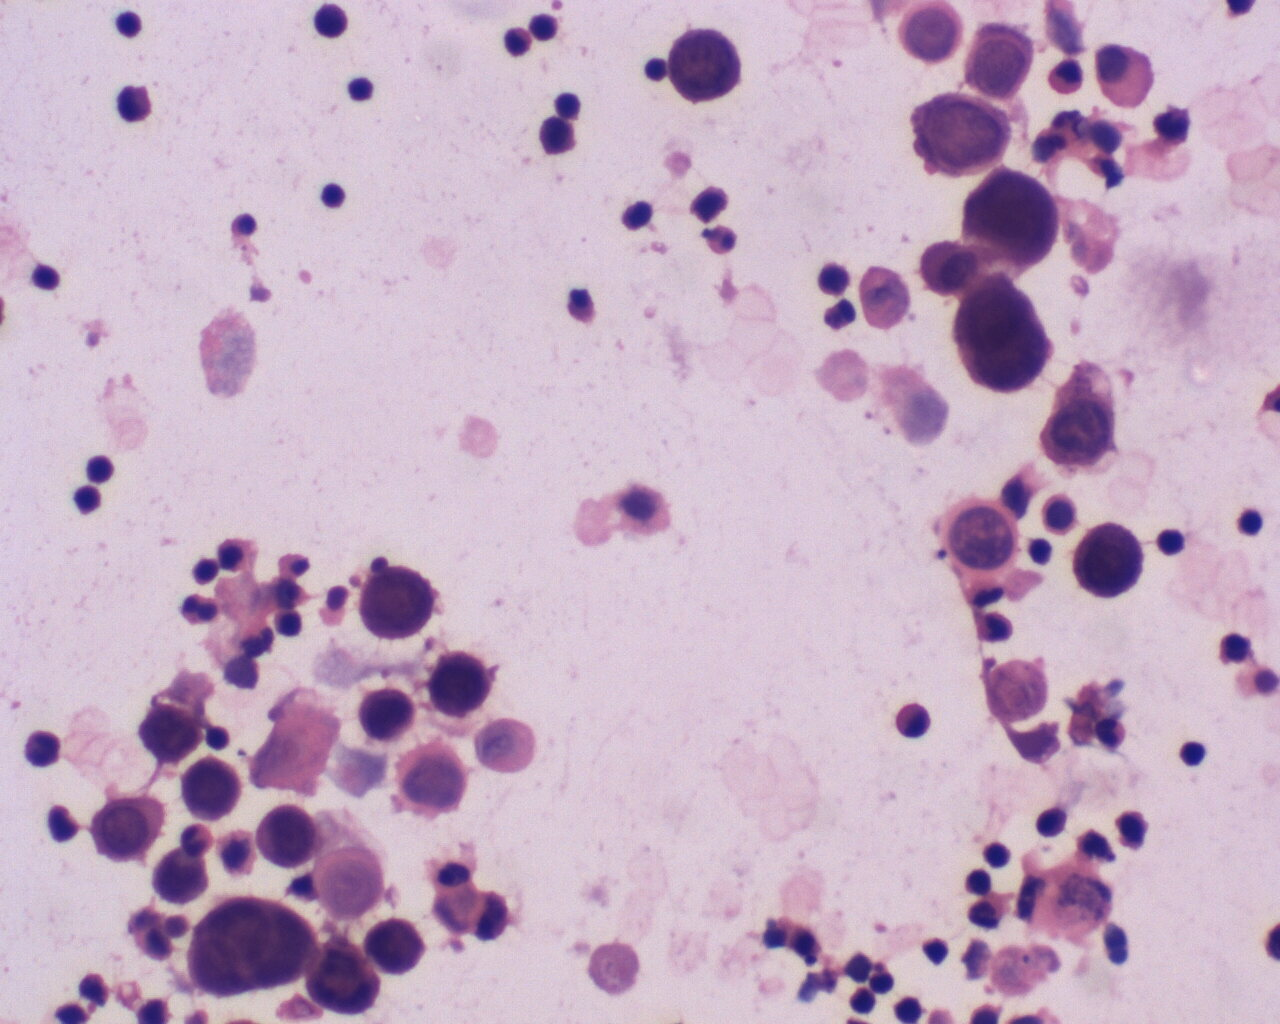ab: (949, 270, 1058, 396), (187, 899, 317, 1001), (959, 165, 1061, 273), (909, 93, 1017, 177), (670, 26, 747, 104), (304, 938, 385, 1014), (1071, 519, 1145, 599), (360, 563, 434, 644), (965, 24, 1035, 101), (89, 794, 163, 865), (424, 649, 494, 719), (255, 800, 323, 872), (178, 757, 246, 821), (138, 701, 201, 768), (366, 918, 429, 976), (358, 688, 421, 743)
lymph: (338, 72, 385, 116), (23, 256, 66, 299), (104, 4, 145, 45), (1151, 522, 1191, 562), (916, 931, 956, 969), (549, 84, 585, 121), (1238, 506, 1273, 541), (1178, 736, 1211, 772), (83, 453, 118, 485), (983, 839, 1013, 872), (320, 180, 349, 209), (641, 51, 667, 83)
meso: (1087, 30, 1162, 111)
neutro: (177, 592, 223, 631), (179, 820, 218, 859)
